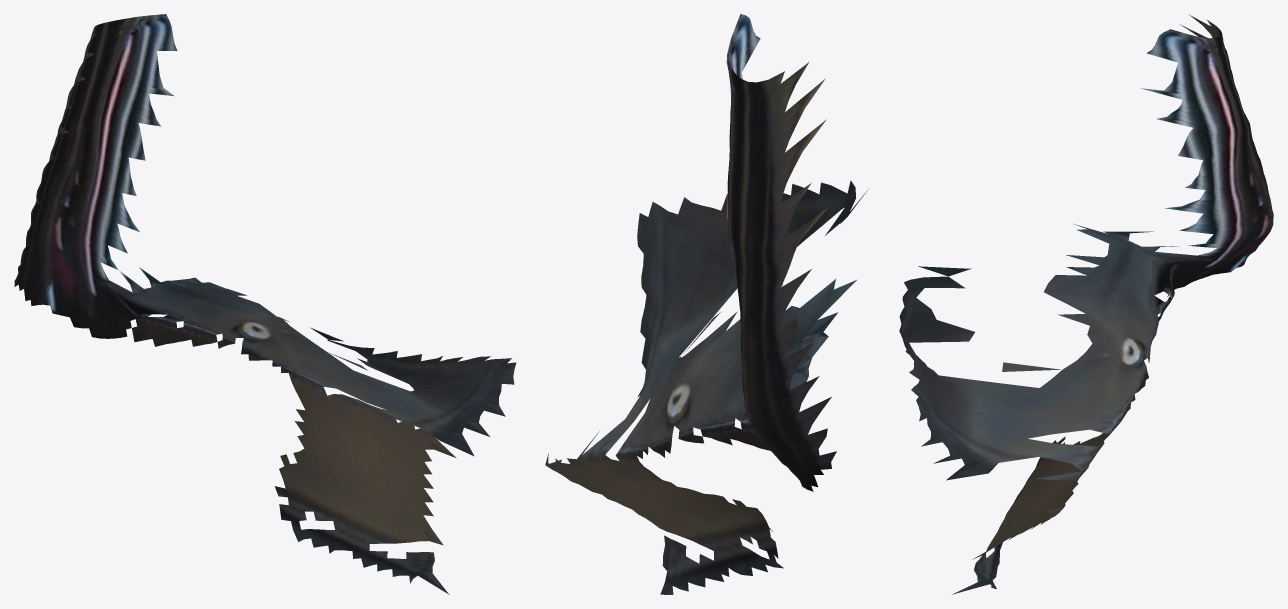
The model's file is observed-surface.glb.
3 renders of one model, left to right at view 1: azimuth 30°, elevation 25°; view 2: azimuth 150°, elevation 25°; view 3: azimuth 270°, elevation 25°, orthographic. The views are drawn at different scales.
Visible parts, largest first — view 1: geometry_0; view 2: geometry_0; view 3: geometry_0.
Boxes of the visible parts, bbox=[...] form: geometry_0: bbox=[14, 14, 516, 594]; geometry_0: bbox=[545, 14, 868, 594]; geometry_0: bbox=[899, 14, 1273, 594].
Bounding box in the file's own units: 0.4239 × 0.671 × 0.4625.
1 material, 1 textured.
